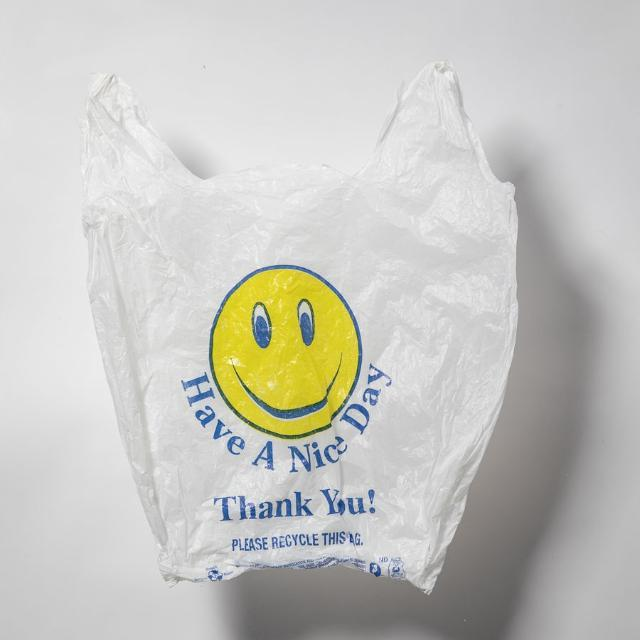plastic: (83, 66, 517, 591)
